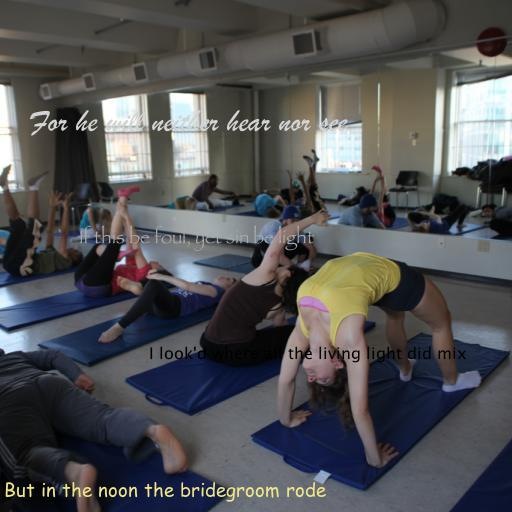Brush Script MT: (29, 110, 347, 136)
Comic Sans MS: (4, 481, 326, 502)
Lucida Grande: (149, 346, 467, 363)
Papyrus: (78, 225, 314, 252)
